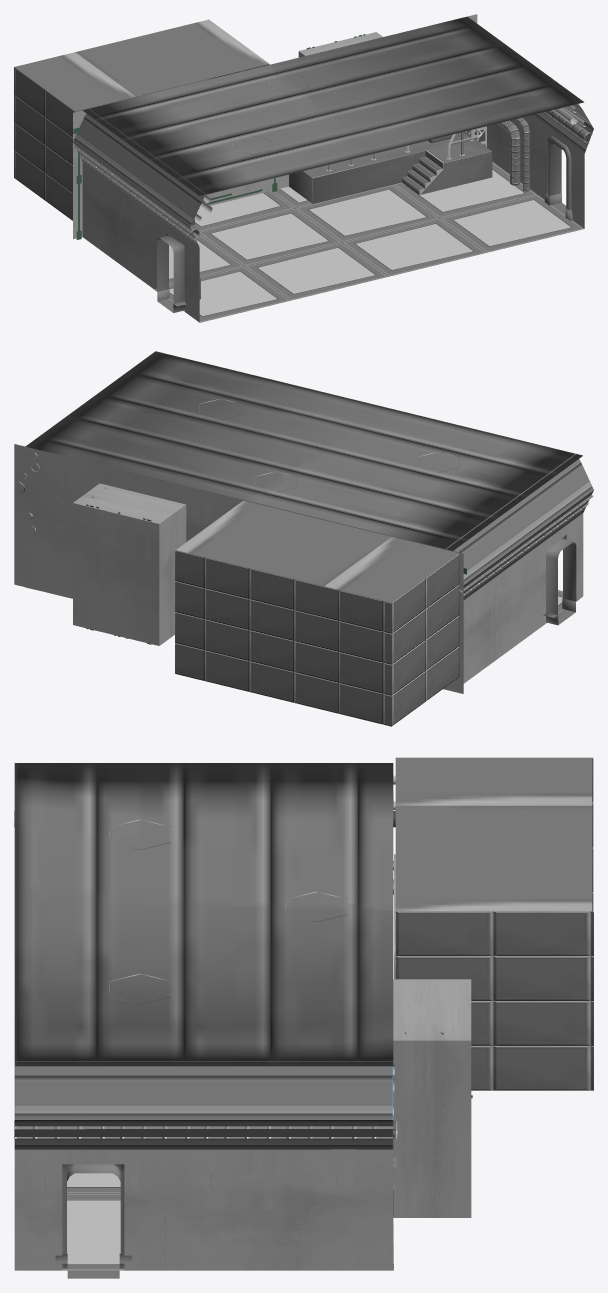
Rendered from MSH_Power_Plant_room_L1_R2_optimized.fbx.
3 renders of one model, top to bottom at view 1: azimuth 30°, elevation 25°; view 2: azimuth 150°, elevation 25°; view 3: azimuth 270°, elevation 25°, orthographic. The views are drawn at different scales.
Visible parts, largest first — view 1: lightmap1, lightmap0, lightmap-1; view 2: lightmap1, lightmap-1, lightmap0; view 3: lightmap1, lightmap0, lightmap-1.
Boxes of the visible parts, left/top/right/bottom form: lightmap1: left=14, top=14, right=593, bottom=322; lightmap0: left=72, top=81, right=592, bottom=299; lightmap-1: left=157, top=142, right=566, bottom=312; lightmap1: left=14, top=351, right=593, bottom=726; lightmap-1: left=546, top=539, right=576, bottom=625; lightmap0: left=15, top=453, right=593, bottom=660; lightmap1: left=14, top=757, right=593, bottom=1270; lightmap0: left=14, top=775, right=443, bottom=1215; lightmap-1: left=67, top=1164, right=120, bottom=1278.
Size of the model in its own units: 20.66 by 6.24 by 15.84.
